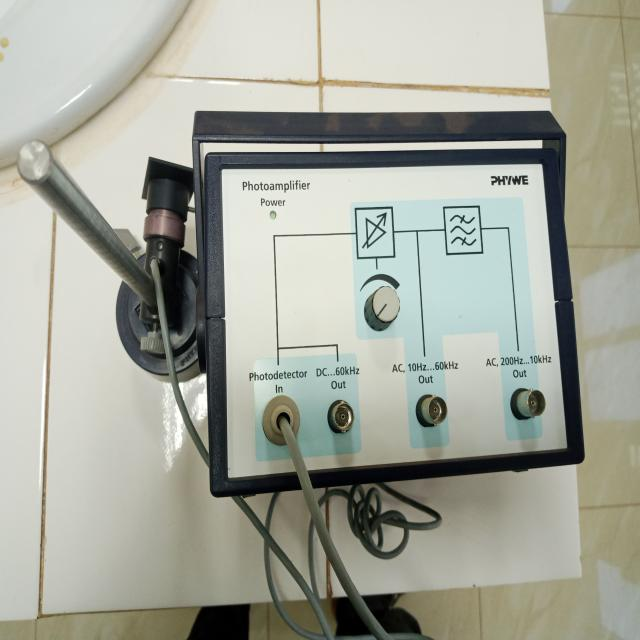Photo Amplifier Power Supply: (12, 89, 598, 524)
